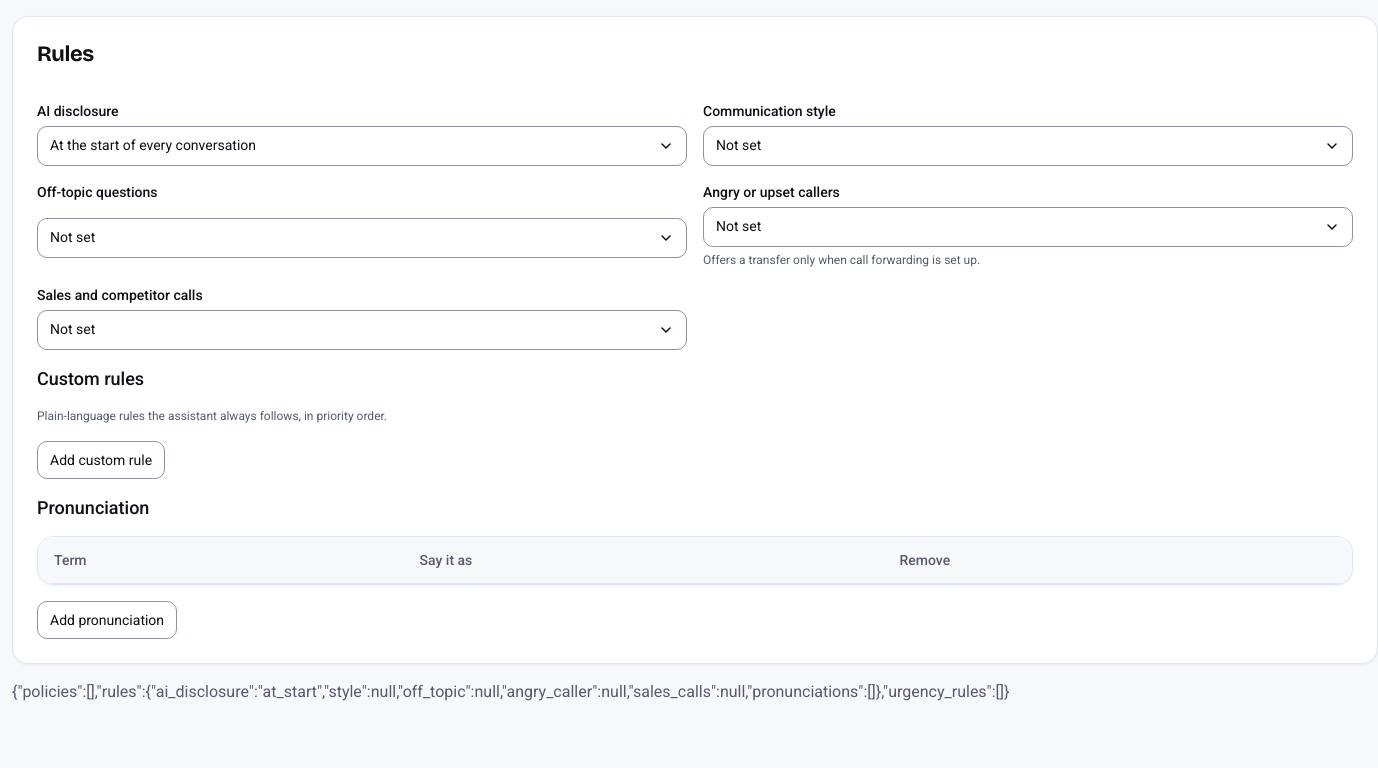
RulePresetsEditor › updates presets and maps Not set to null
Select "Formal" in the dropdown labelled "Communication style" at (1028, 146), box left=703, top=126, right=1353, bottom=166
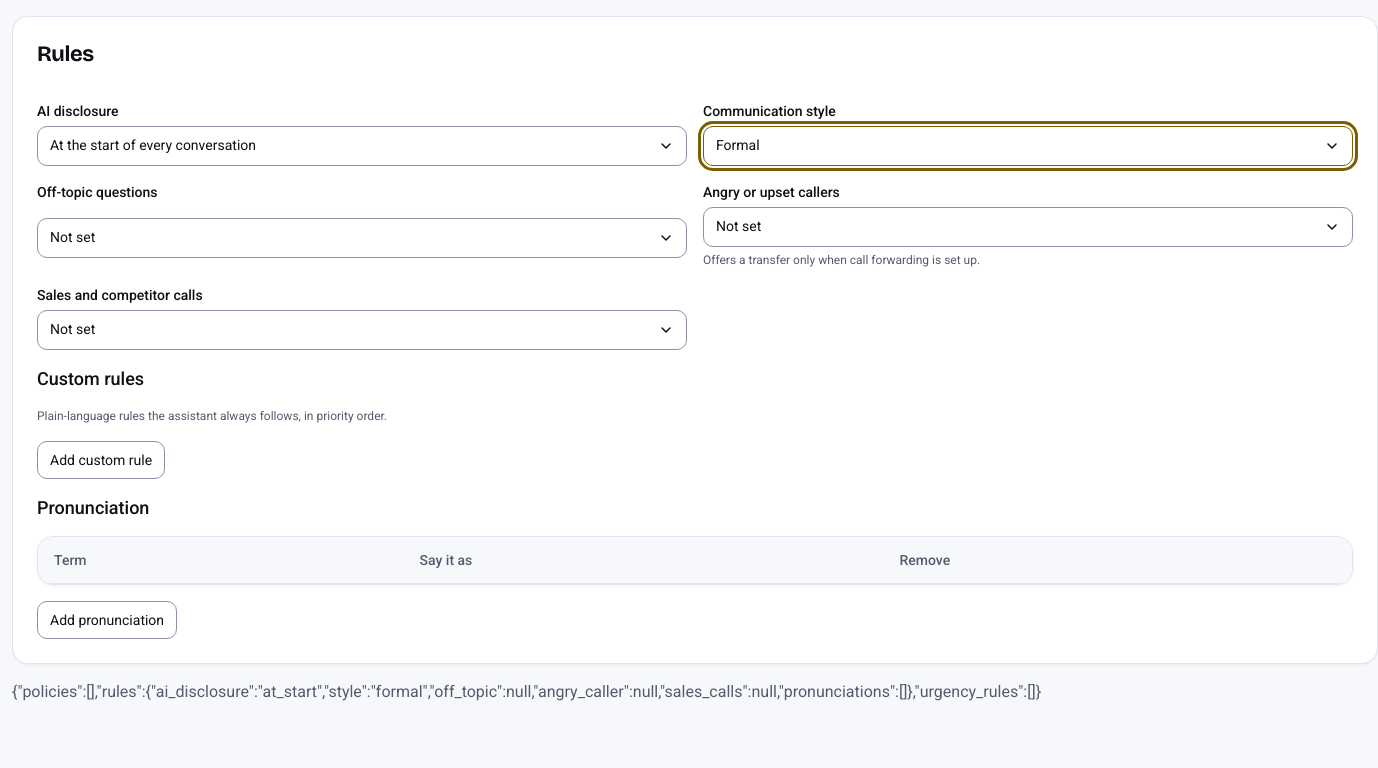
Expected: the text with test id "config" shows "\"style\":\"formal\"", left=12, top=682, right=1041, bottom=702
Select "Not set" in the dropdown labelled "Communication style" at (1028, 146), box left=703, top=126, right=1353, bottom=166
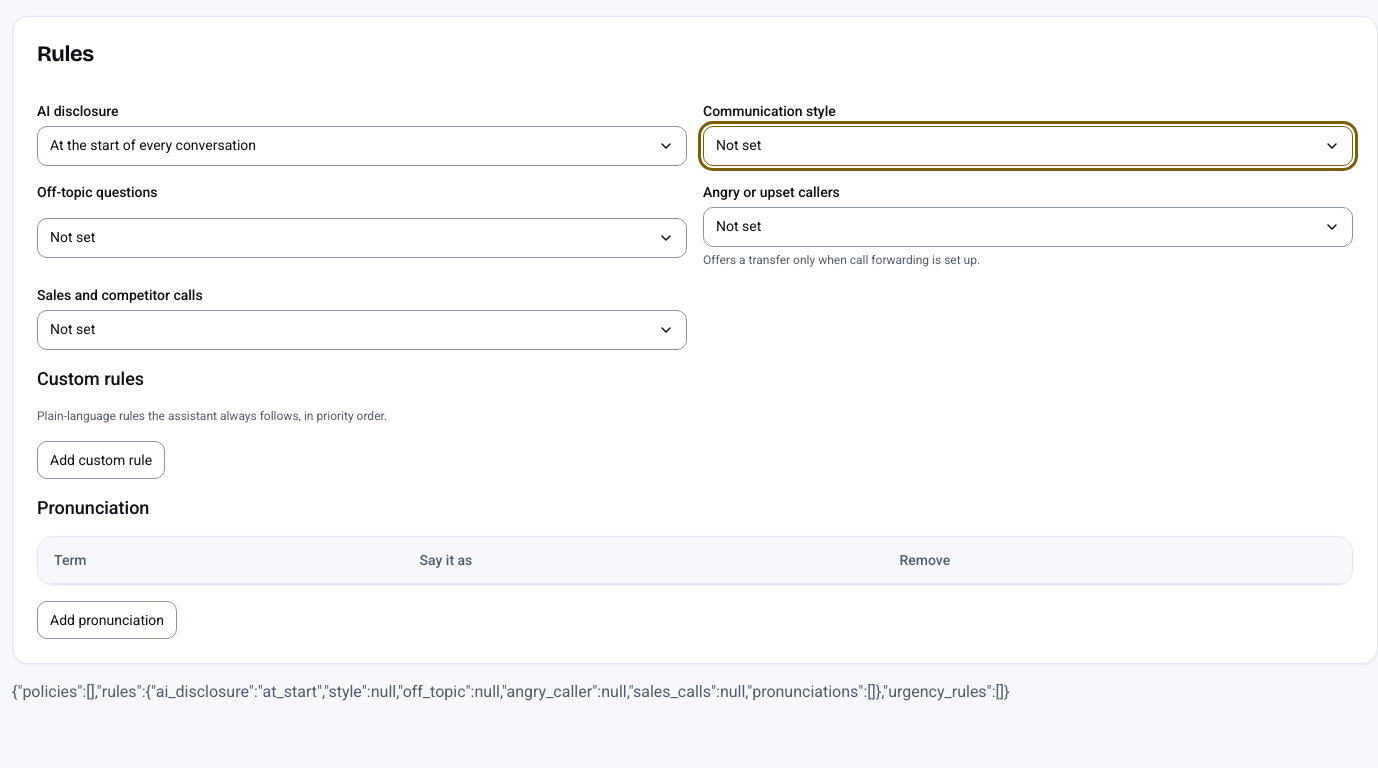
Expected: the text with test id "config" shows "\"style\":null", left=12, top=682, right=1010, bottom=702
